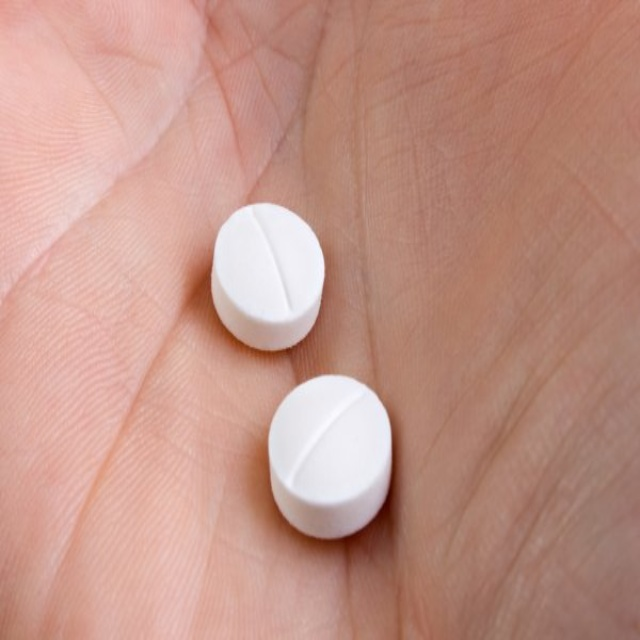pill: (249, 232, 371, 340), (194, 125, 305, 221)
